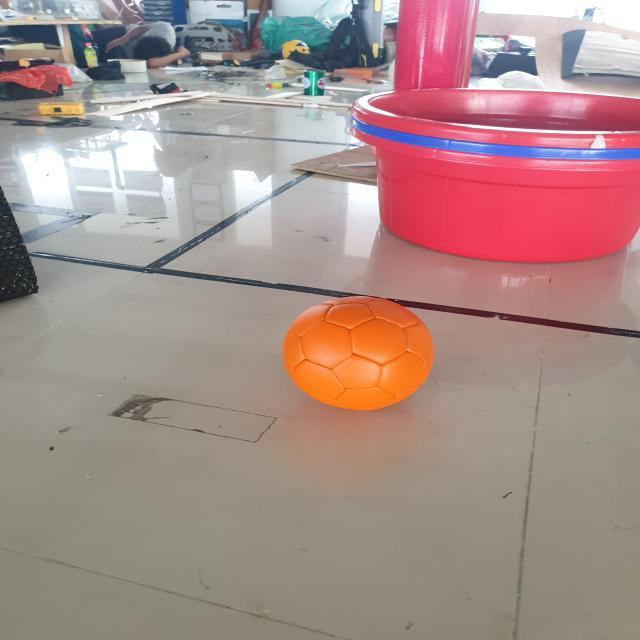bola: (276, 294, 439, 416)
